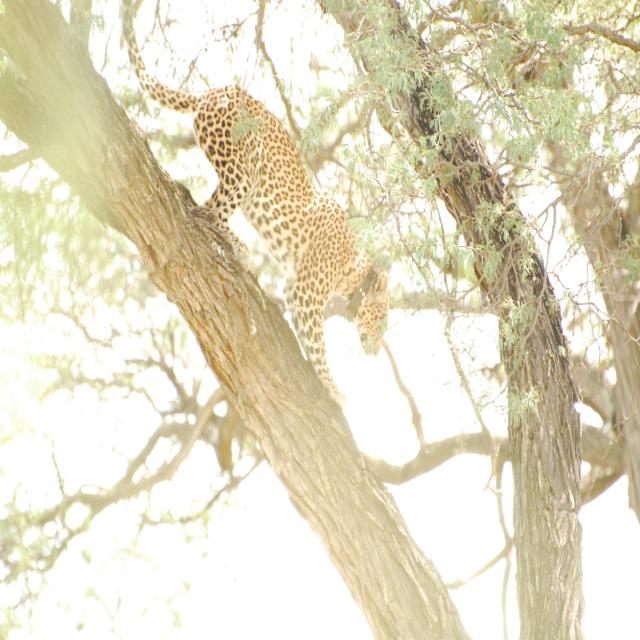Leopard: (115, 28, 407, 472)
